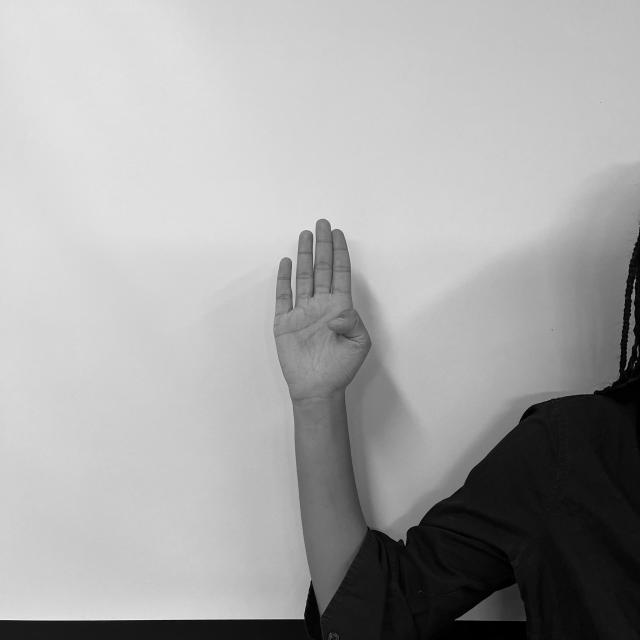Letra B: (270, 215, 374, 398)
